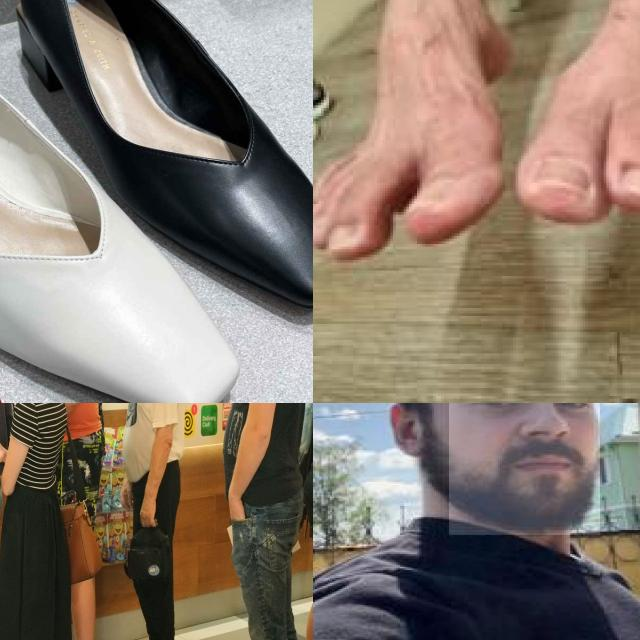Barefoots: (316, 0, 527, 280), (536, 0, 640, 250)
No_Ear-Protection: (377, 403, 429, 460)
No_Glasses: (441, 403, 602, 428)
Sandals: (0, 0, 313, 337), (0, 0, 253, 403)
face_nomask: (449, 403, 600, 535)
person: (313, 403, 640, 640)
